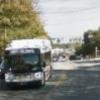buses: (4, 39, 52, 86)
